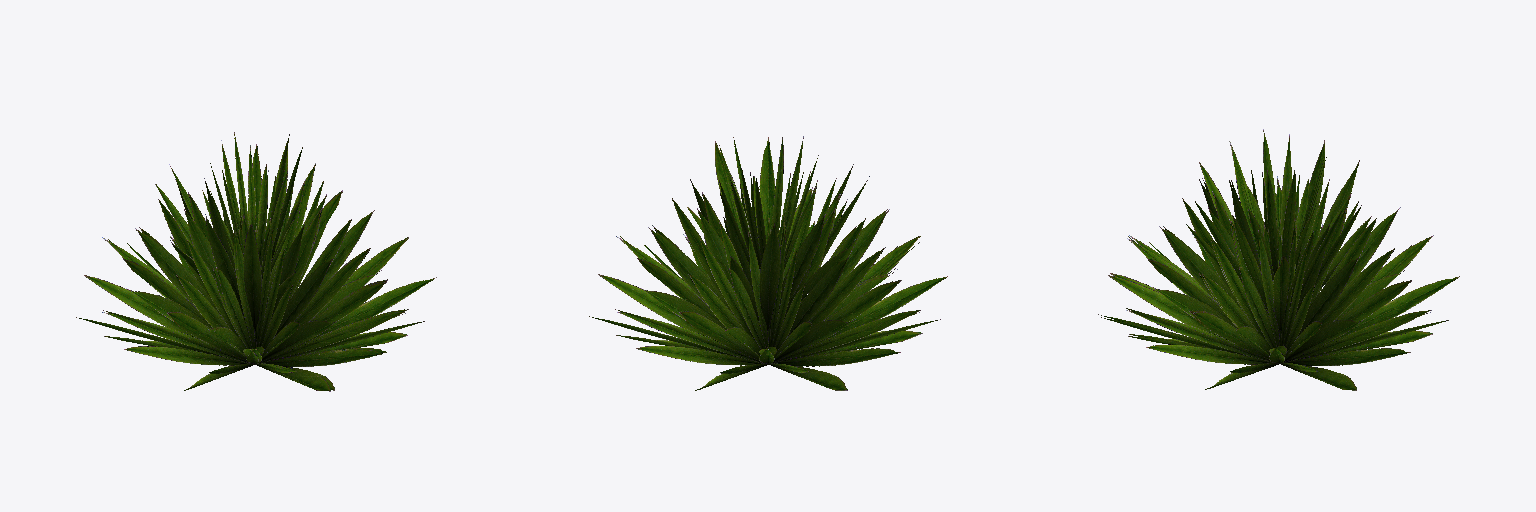
3 views of the same model, side by side, from view 1: azimuth 30°, elevation 25°; view 2: azimuth 150°, elevation 25°; view 3: azimuth 270°, elevation 25° (orthographic).
Parts seen in each view (by area): view 1: Spikes_Untitled.001; view 2: Spikes_Untitled.001; view 3: Spikes_Untitled.001.
Part boxes in pixels (x1,y1,x2,y2): Spikes_Untitled.001: (76, 132, 436, 391); Spikes_Untitled.001: (589, 136, 947, 390); Spikes_Untitled.001: (1098, 129, 1459, 390).
Bounding box in the file's own units: 0.629 × 0.3892 × 0.7203.
1 materials, 1 textured.